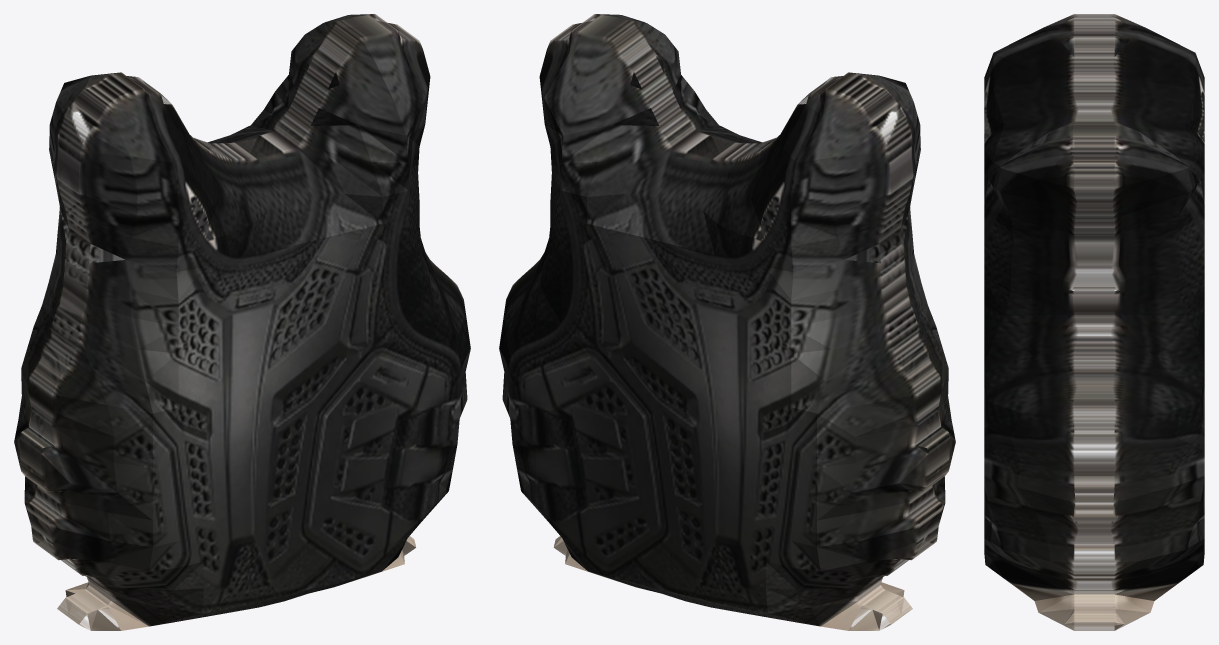
Rendered from arai-circuit-chest-protector-155.glb.
3 renders of one model, left to right at view 1: azimuth 30°, elevation 25°; view 2: azimuth 150°, elevation 25°; view 3: azimuth 270°, elevation 25°, orthographic. The views are drawn at different scales.
Parts seen in each view (by area): view 1: world; view 2: world; view 3: world.
Part boxes in pixels (bbox=[...]): world: bbox=[14, 14, 470, 630]; world: bbox=[499, 14, 955, 630]; world: bbox=[984, 14, 1204, 630].
Bounding box in the file's own units: 0.8185 × 1 × 0.4.
Materials: 1 (1 with a texture image).
